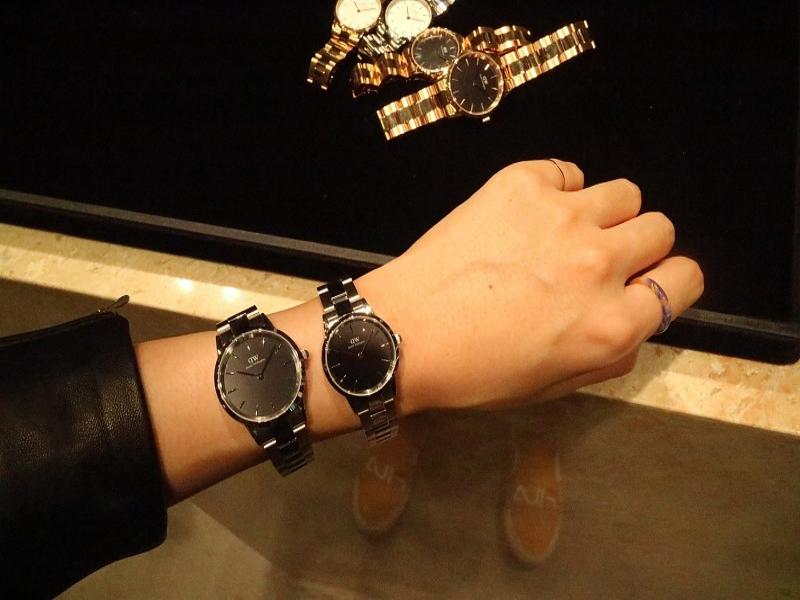watch: (200, 299, 317, 478), (314, 271, 416, 447)
